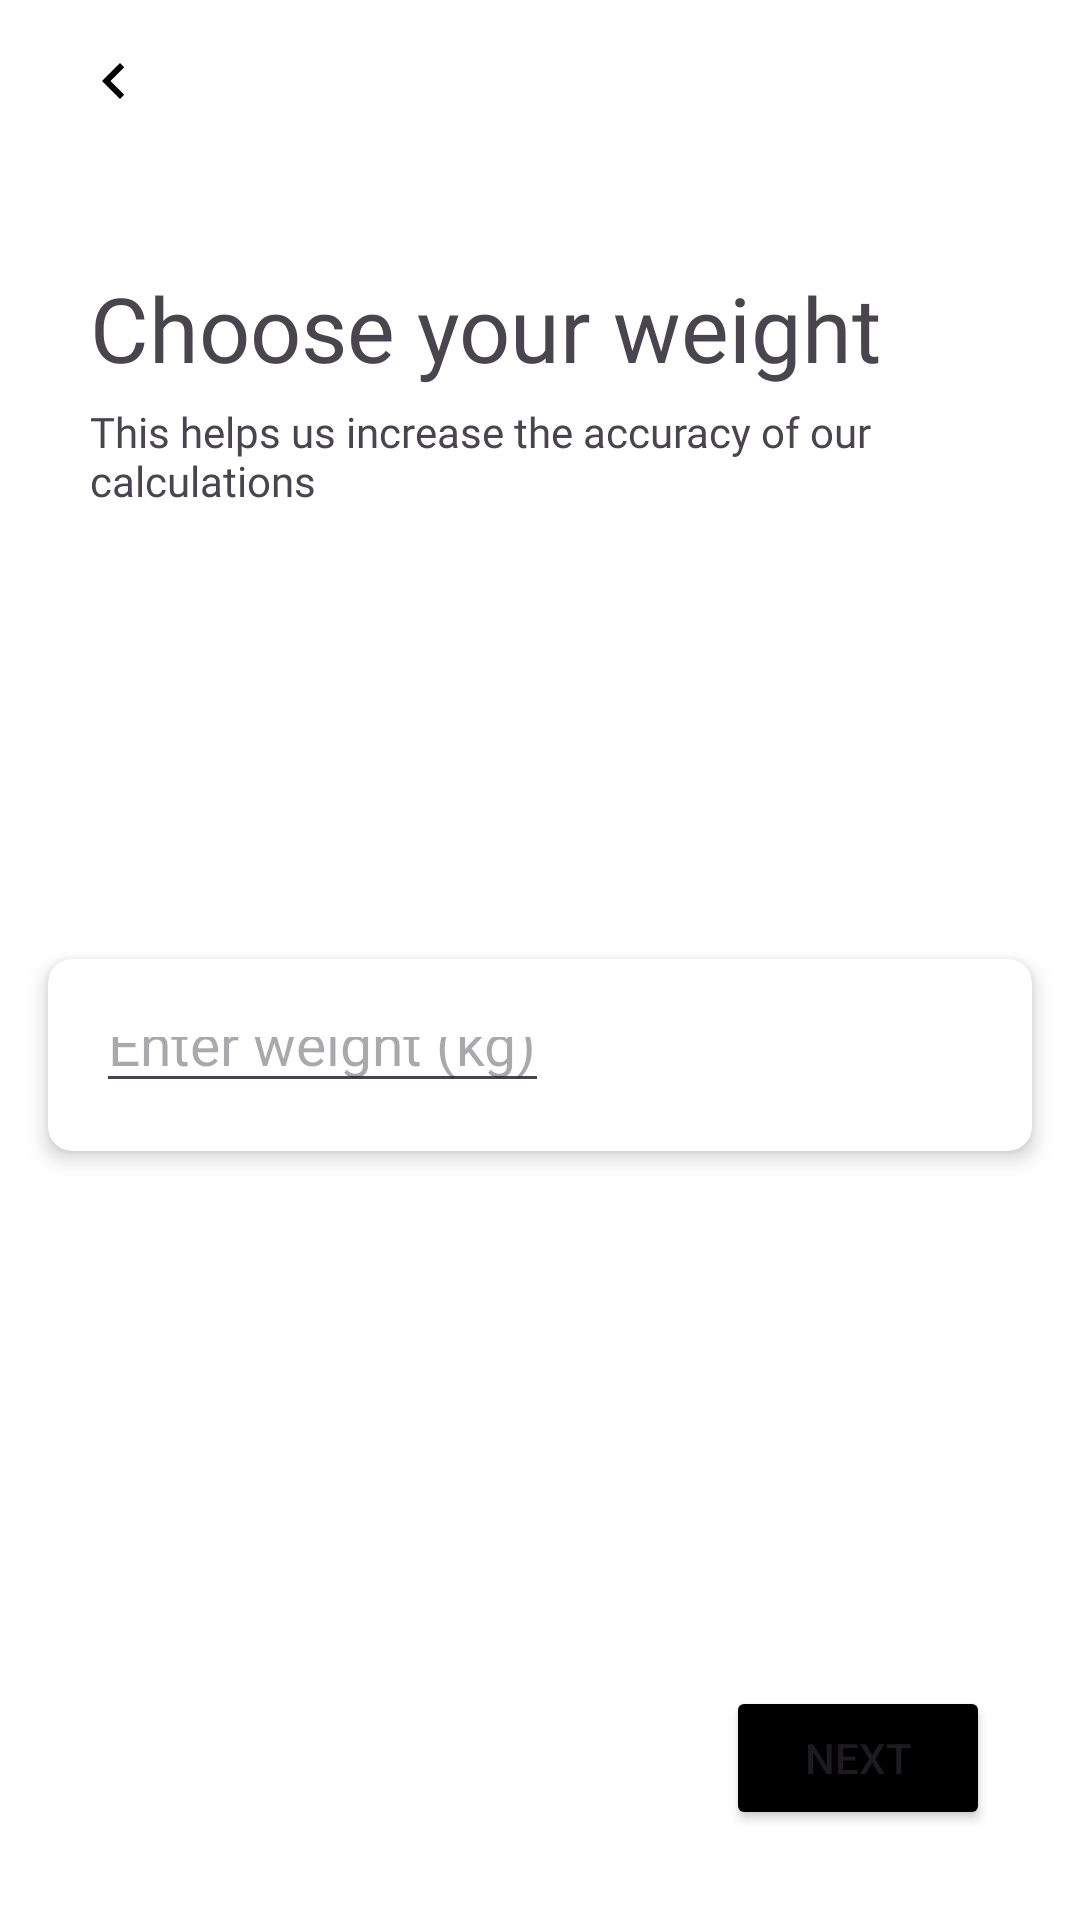

Icons on this 1080 x 1920 Android screen, each with the point to tap as (x=x, y=y):
chevron left: (x=113, y=81)
